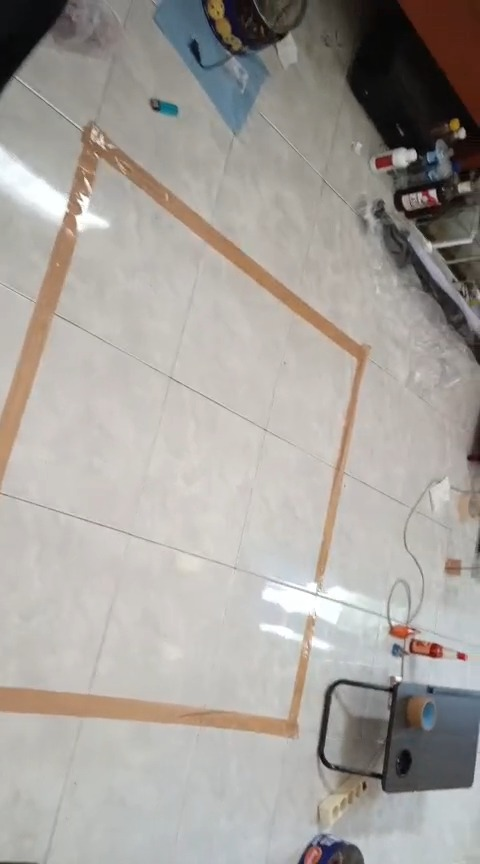floor marking: (0, 125, 368, 587), (0, 612, 317, 736)
